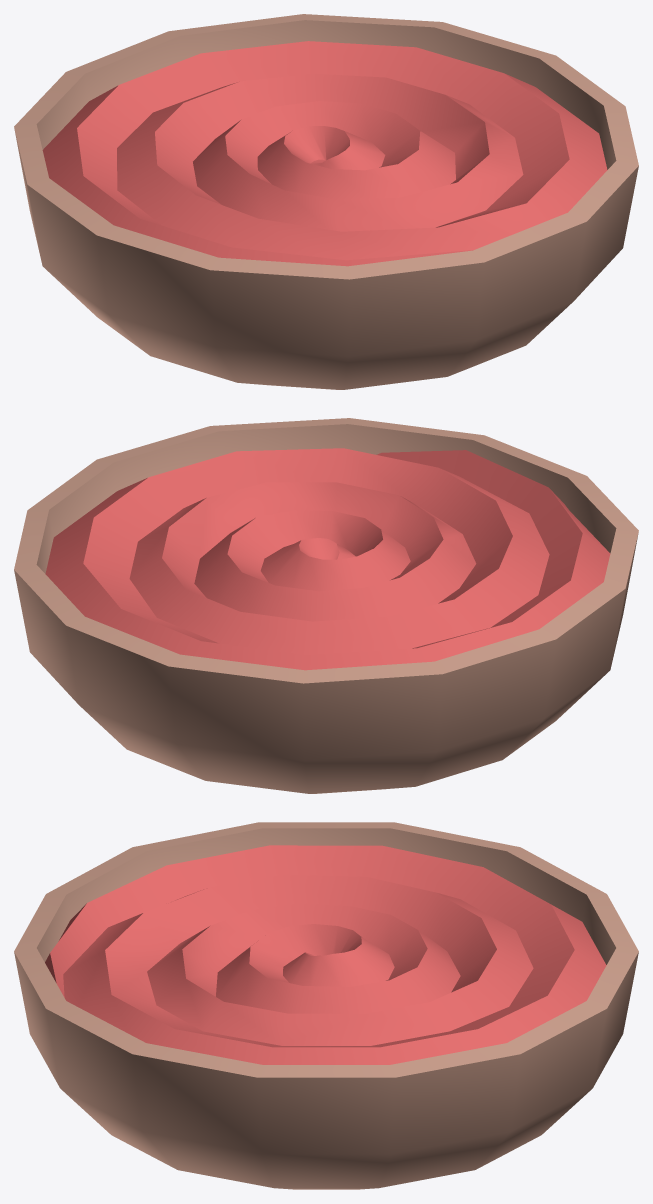
File: Bowl_Red_geo.fbx
The picture shows the model from 3 angles, top to bottom: view 1: azimuth 30°, elevation 25°; view 2: azimuth 150°, elevation 25°; view 3: azimuth 270°, elevation 25°; orthographic projection.
Visible parts, largest first — view 1: Bowl_Red_geo; view 2: Bowl_Red_geo; view 3: Bowl_Red_geo.
Part boxes in pixels (box(x1,y1,x2,y2)): Bowl_Red_geo: box(14, 14, 638, 389); Bowl_Red_geo: box(14, 418, 638, 793); Bowl_Red_geo: box(14, 822, 638, 1189).
Bounding box in the file's own units: 0.6251 × 0.6467 × 0.2231.
